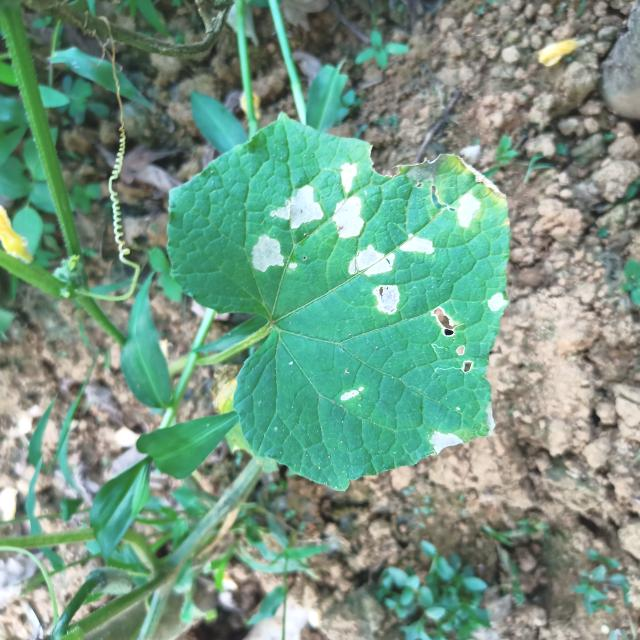disease_cucumber: (350, 242, 401, 318), (430, 306, 480, 378), (331, 163, 366, 239), (268, 184, 323, 232), (249, 232, 301, 276), (452, 189, 480, 231), (398, 232, 438, 258), (429, 428, 462, 454), (340, 386, 370, 406), (486, 290, 507, 315)
